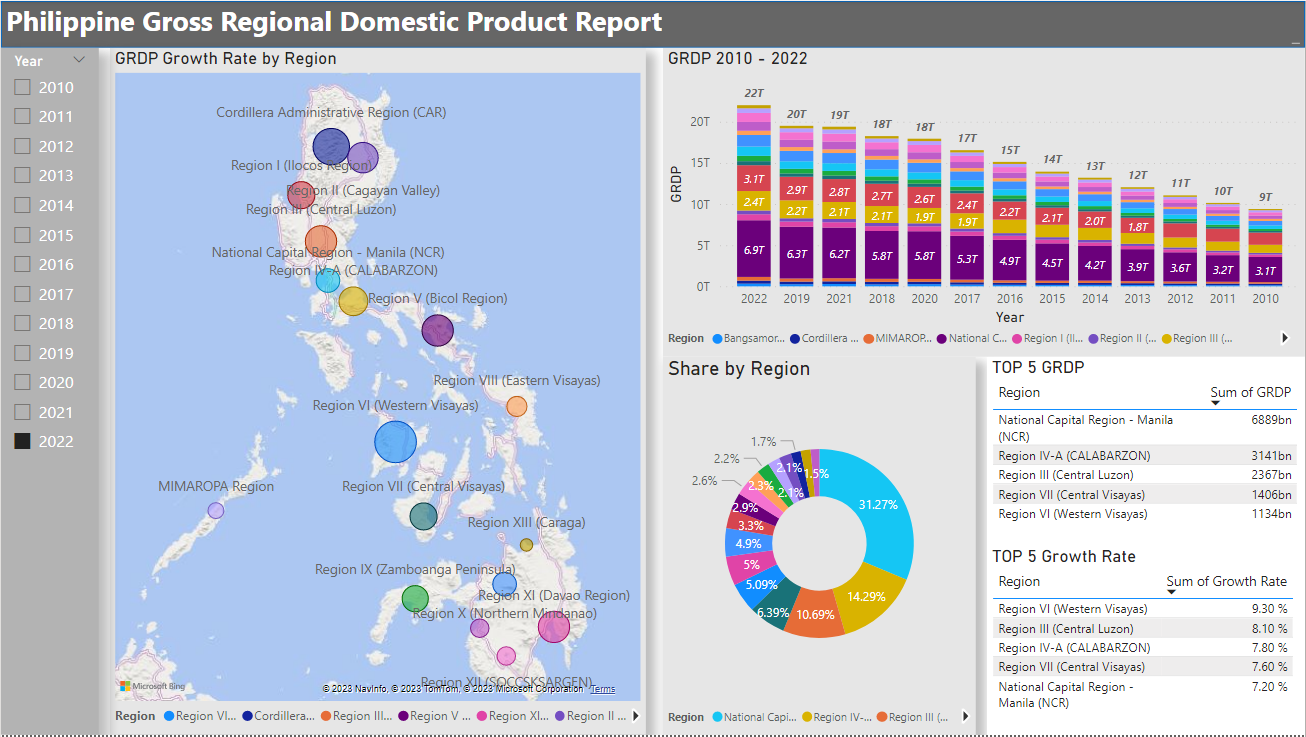

The dashboard page shown, as its layout file describes it:
{"tool":"powerbi","page":{"name":"Page 1","canvas":[1280,720],"ordinal":0},"visuals":[{"type":"shape","box":[0,0,1280,46.1],"z":0},{"type":"map","title":"GRDP Growth Rate by Region","fields":{"Category":["GRDP.Region"],"Size":["Sum(GRDP.Growth Rate)"],"Series":["GRDP.Region"]},"box":[107,46.1,526.1,674.4],"z":1000},{"type":"slicer","fields":{"Values":["GRDP.Year"]},"box":[0,45.9,95.6,674.1],"z":2000},{"type":"textbox","title":"Philippine Gross Regional Domestic Product Report","box":[0,0,1280,46.1],"z":3000},{"type":"donutChart","title":"Share by Region","fields":{"Y":["Sum(GRDP.Share)"],"Category":["GRDP.Region"]},"box":[649.8,349.4,307.2,371],"z":4000},{"type":"columnChart","title":"GRDP 2010 - 2022","fields":{"Category":["GRDP_Trend.Year"],"Series":["GRDP_Trend.Region"],"Y":["Sum(GRDP_Trend.GRDP)"]},"box":[649.8,46.1,630.2,303.3],"z":5000},{"type":"tableEx","title":"TOP 5 GRDP","fields":{"Values":["GRDP.Region","Sum(GRDP.GRDP)"]},"box":[967.9,349.4,312.1,185.5],"z":6000},{"type":"tableEx","title":"TOP 5 Growth Rate","fields":{"Values":["GRDP.Region","Sum(GRDP.Growth Rate)"]},"box":[967.9,535,312.1,185.5],"z":7000}]}

Visuals, with their boxes in screenshot pixels (x1, y1, x2, y2), scaled from the page's 1280x720 canvas onto the 1306x737 screenshot:
shape: 0:0:1305:47
"GRDP Growth Rate by Region" map: 109:47:646:736
slicer - GRDP.Year: 0:47:98:736
"Philippine Gross Regional Domestic Product Report" textbox: 0:0:1305:47
"Share by Region" donutChart: 663:358:976:736
"GRDP 2010 - 2022" columnChart: 663:47:1305:358
"TOP 5 GRDP" tableEx: 988:358:1305:548
"TOP 5 Growth Rate" tableEx: 988:548:1305:736
